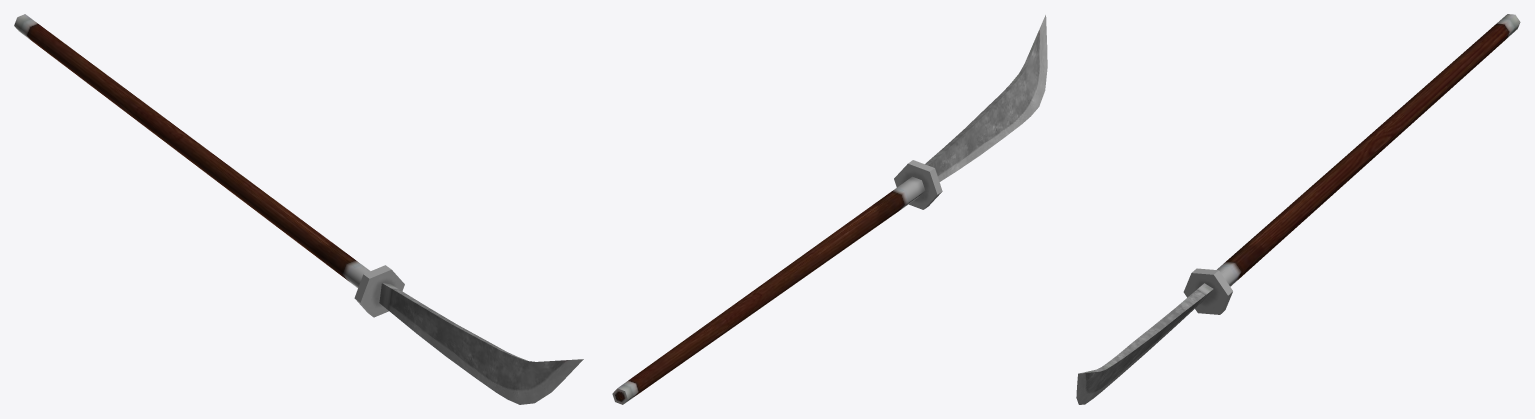
File: weapon-copperweapons.glb
3 views of the same model, side by side, from view 1: azimuth 30°, elevation 25°; view 2: azimuth 150°, elevation 25°; view 3: azimuth 330°, elevation 25° (orthographic). The views are drawn at different scales.
Bounding box in the file's own units: 0.1977 × 0.206 × 2.69.
Materials: 1 (1 with a texture image).
